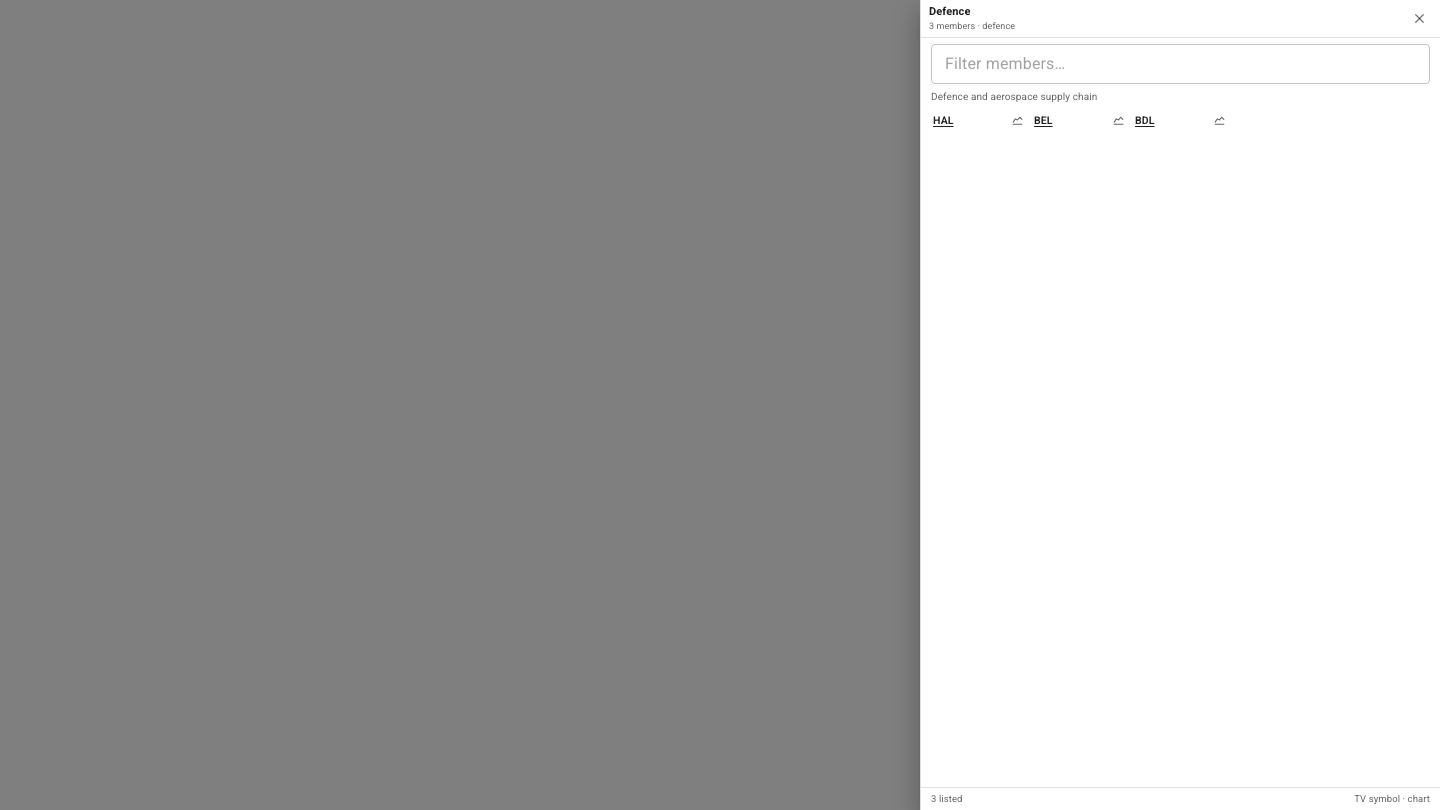
ThemeMembersDrawer › filters the members
The image size is (1440, 810).
Expected: the element with test id "theme-member-HAL" is shown, [929,110,1028,132]
Step 1. Type "BE" into the field with test id "theme-members-search" → (1180, 64), box [931,44,1430,84]
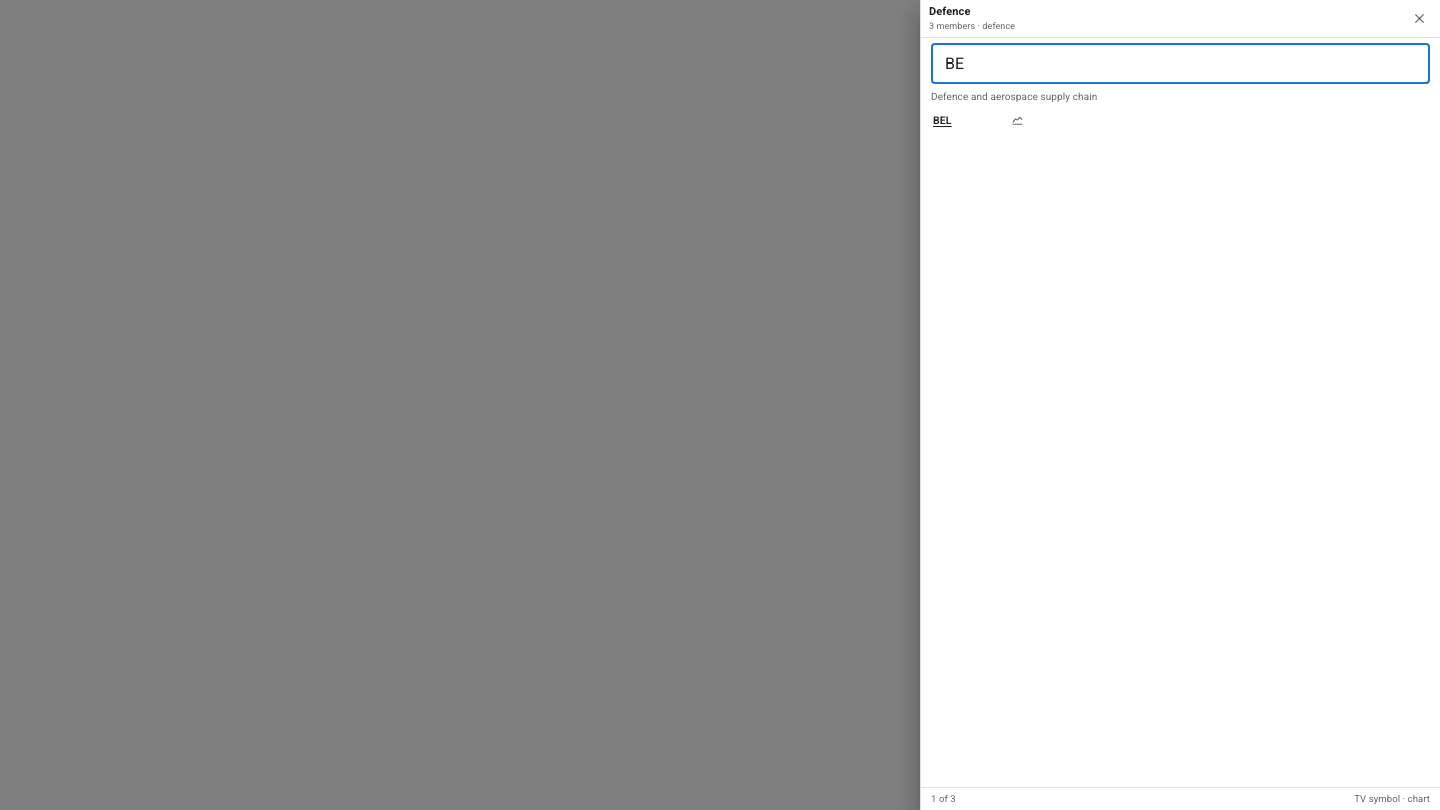
Expected: the element with test id "theme-member-BEL" is shown, [929,110,1028,132]
Result: the element with test id "theme-member-HAL" is gone
